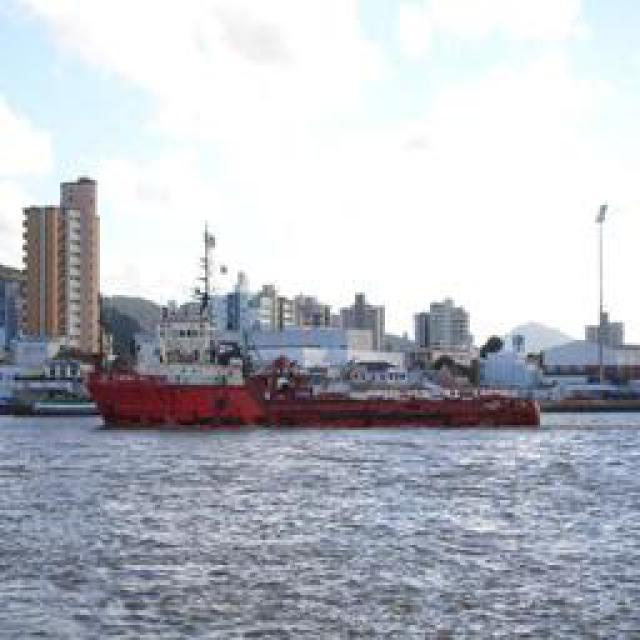Ship: (90, 346, 545, 429)
